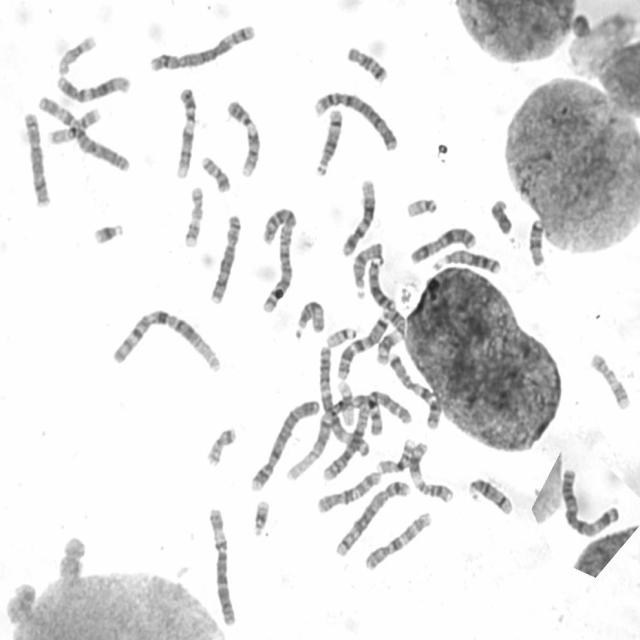A1: (279, 388, 405, 481), (108, 303, 224, 374)
A2: (317, 384, 411, 484), (256, 201, 299, 315)
A3: (314, 340, 372, 458), (557, 462, 621, 538)
B4: (246, 393, 320, 493), (308, 84, 401, 152)
B5: (332, 474, 411, 558), (145, 18, 258, 73)
C10: (360, 506, 434, 572), (312, 466, 383, 515)
C11: (404, 436, 456, 505), (371, 302, 407, 366)
C12: (338, 173, 378, 258), (52, 68, 132, 103)
C6: (34, 88, 131, 173), (204, 502, 238, 628)
C7: (385, 348, 444, 430), (333, 308, 392, 380)
C8: (206, 208, 243, 305), (18, 106, 52, 208)
C9: (222, 94, 262, 178), (170, 81, 198, 180)
D13: (428, 244, 504, 276), (364, 255, 397, 311)
D14: (311, 103, 344, 177), (464, 472, 515, 516)
D15: (347, 236, 385, 300), (291, 295, 326, 340)
E16: (44, 102, 104, 146), (373, 433, 418, 474)
E17: (586, 347, 633, 412), (179, 180, 206, 250)
E18: (342, 40, 389, 84), (524, 213, 547, 268)
F19: (54, 28, 99, 76), (333, 374, 357, 428)
F20: (202, 422, 238, 468), (197, 150, 232, 193)
G21: (88, 216, 125, 246), (248, 494, 271, 537)
G22: (401, 192, 439, 219), (322, 321, 357, 348)
X: (406, 221, 478, 265)
Y: (486, 193, 515, 236)
